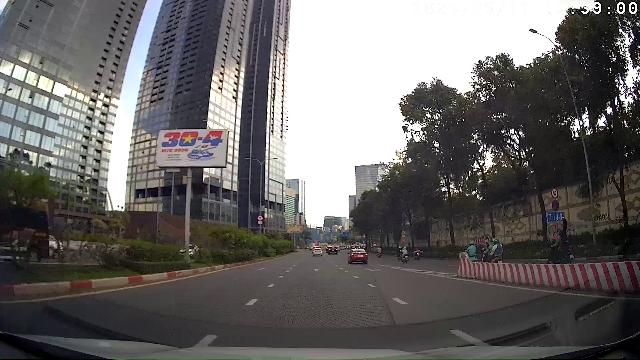127-toc-do-toi-da-60: (551, 188, 558, 199)
